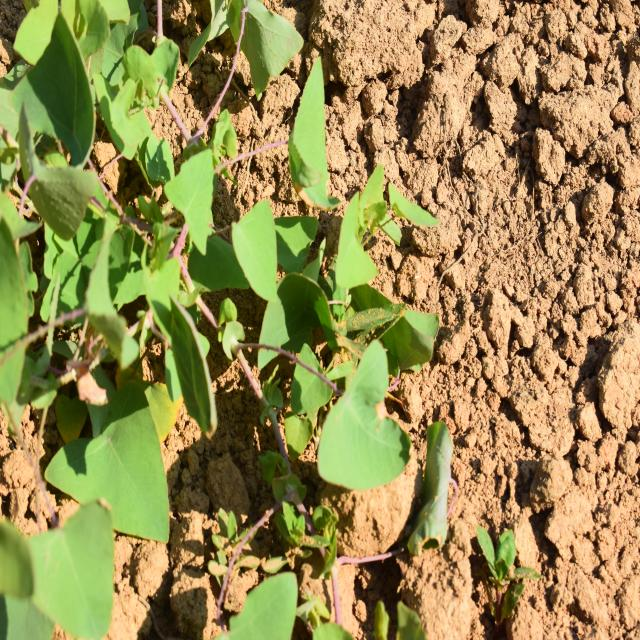Asiatic_Smartweed: (0, 151, 198, 560), (157, 55, 376, 336)
